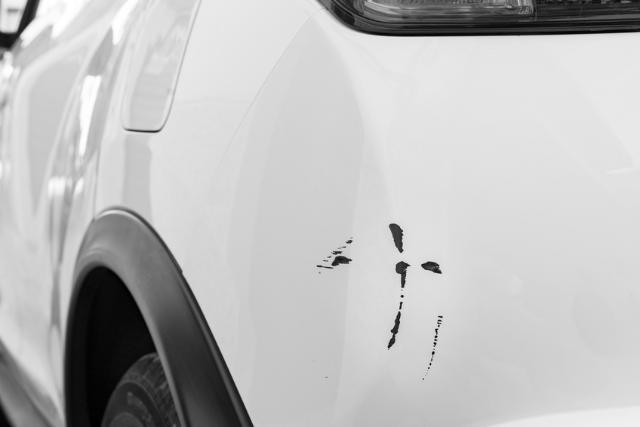Bumper: (222, 142, 545, 389)
